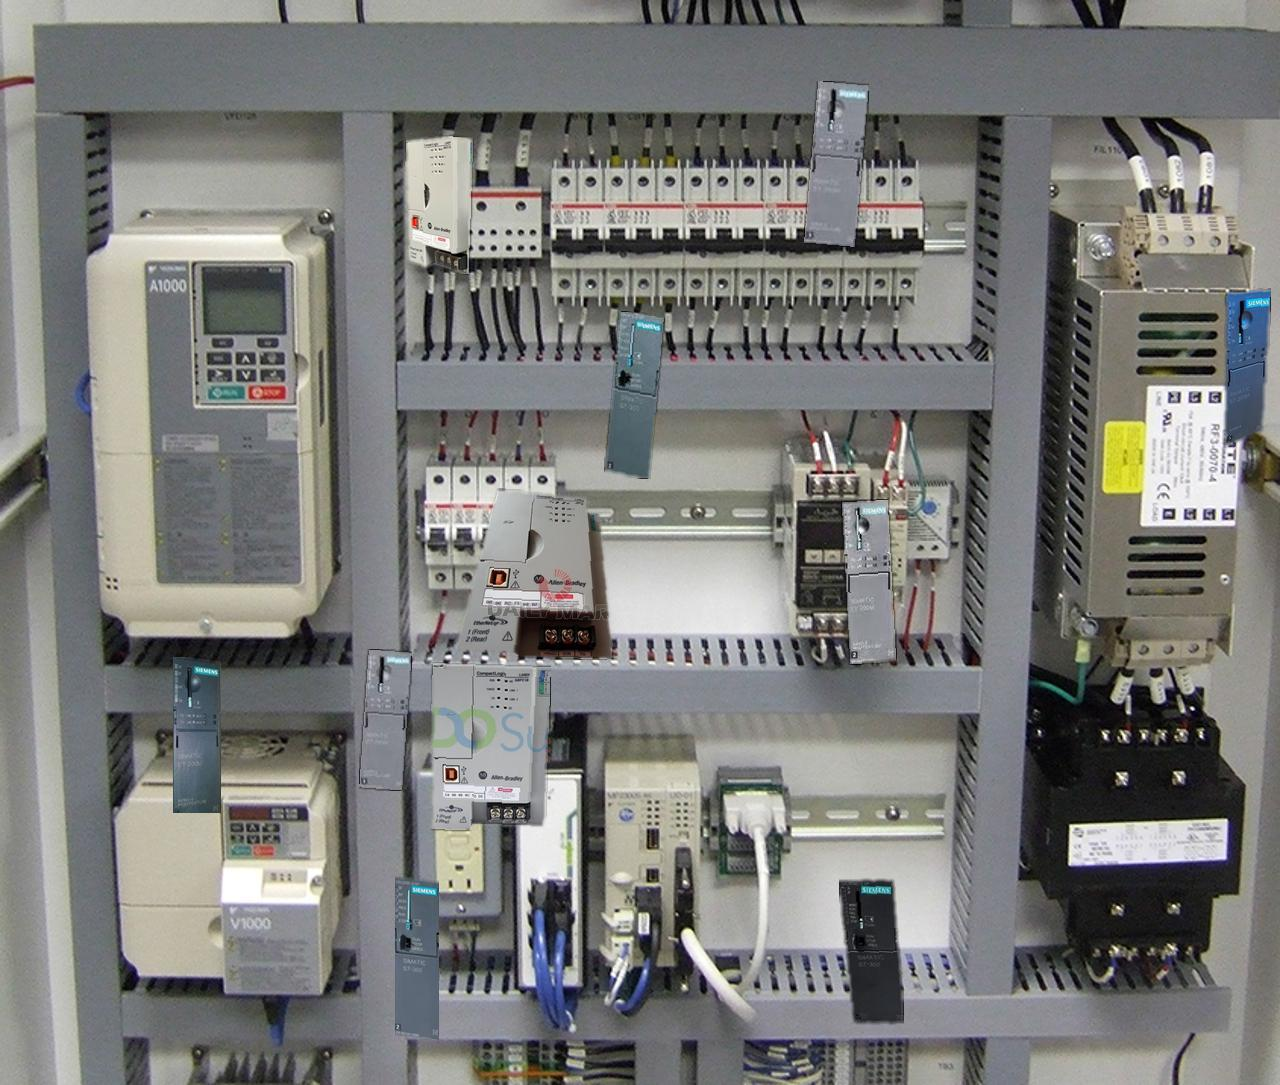AllenBradley: (455, 490, 611, 658), (432, 664, 550, 829), (406, 136, 472, 273)
Siemens: (605, 311, 663, 478), (839, 880, 903, 1021), (395, 877, 438, 1039)
